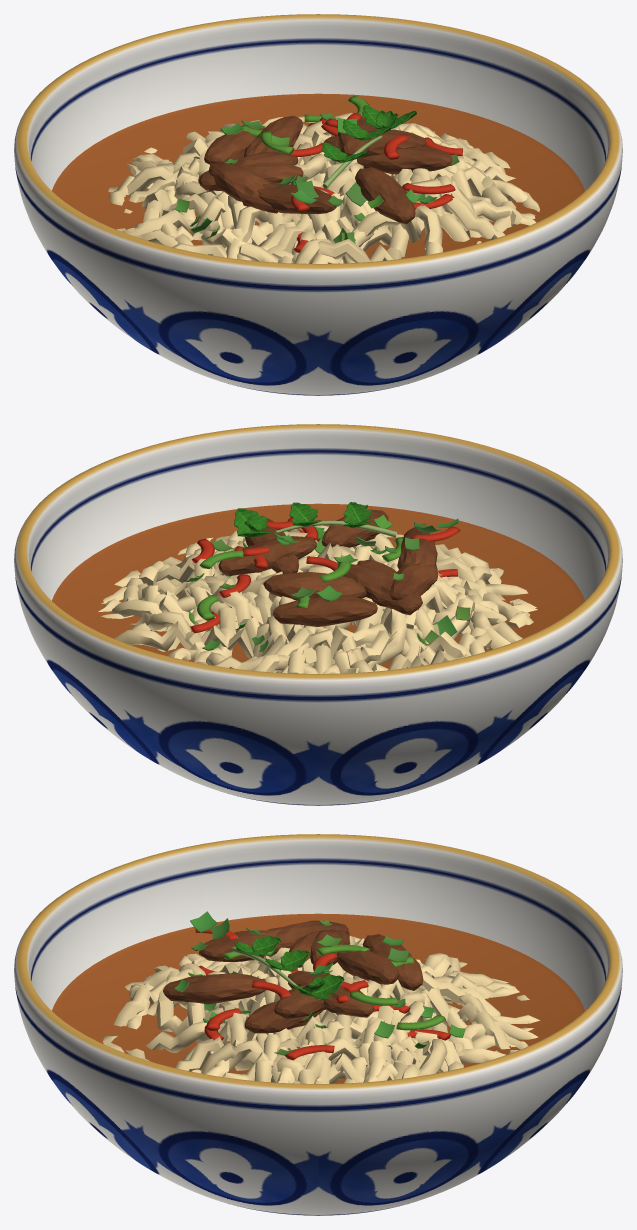
File: lagman.glb
3 renders of one model, top to bottom at view 1: azimuth 30°, elevation 25°; view 2: azimuth 150°, elevation 25°; view 3: azimuth 270°, elevation 25°, orthographic.
Parts seen in each view (by area): view 1: base, noodles, broth, beef, cilantro, peppers; view 2: base, noodles, broth, beef, cilantro, peppers; view 3: base, noodles, broth, beef, cilantro, peppers.
Part boxes in pixels (x1,y1,x2,y2): base: (14,14,622,395); noodles: (108,112,539,263); broth: (52,93,584,259); beef: (198,115,452,224); cilantro: (175,105,459,243); peppers: (241,95,462,252); base: (14,424,622,805); noodles: (98,525,537,673); broth: (52,503,584,668); beef: (218,509,438,626); cilantro: (184,502,470,655); peppers: (190,517,460,633); base: (14,834,622,1215); noodles: (102,936,540,1083); broth: (52,913,584,1083); beef: (163,920,423,1033); cilantro: (174,911,465,1055); peppers: (195,926,450,1060).
Bounding box in the file's own units: 0.1997 × 0.0801 × 0.1997.
8 materials, 3 textured.
